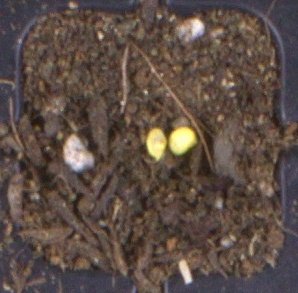chilli seed: (168, 127, 197, 156), (145, 127, 167, 161)
